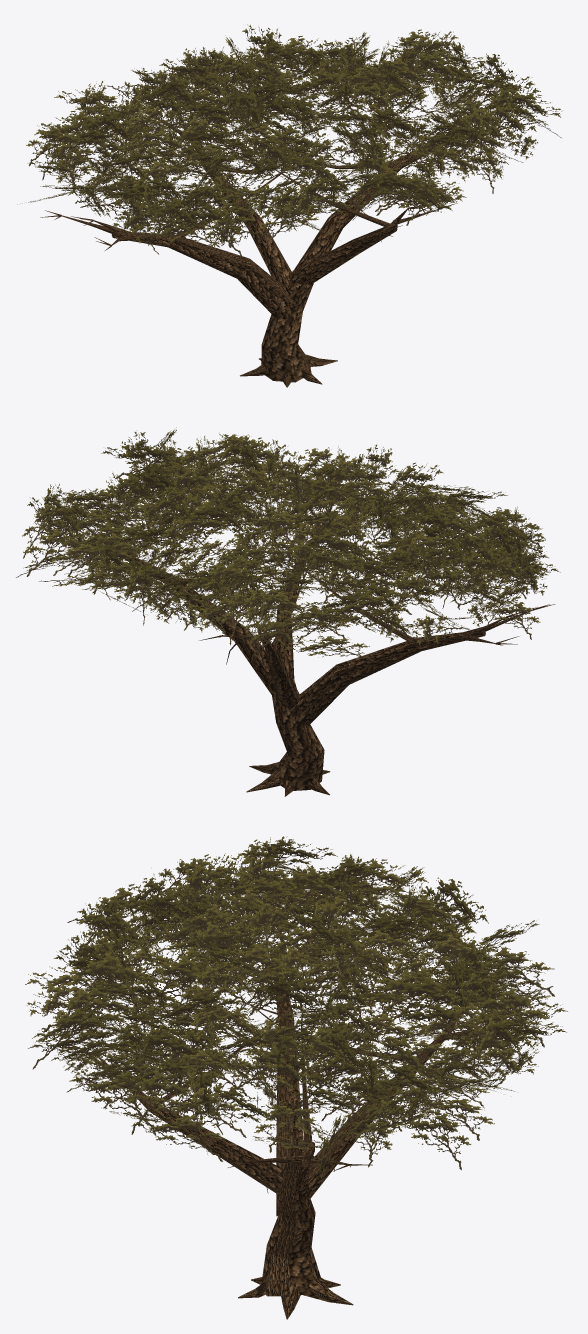
The model's file is Acacia_01_Copa_Ampla.glb.
3 views of the same model, one above another, from view 1: azimuth 30°, elevation 25°; view 2: azimuth 150°, elevation 25°; view 3: azimuth 270°, elevation 25° (orthographic). The views are drawn at different scales.
Parts seen in each view (by area): view 1: Folhagem fina, Ramos principais, Tronco e raizes, Ramos secundarios; view 2: Folhagem fina, Ramos principais, Tronco e raizes, Ramos secundarios; view 3: Folhagem fina, Ramos principais, Tronco e raizes, Ramos secundarios.
Boxes of the visible parts, left/top/right/bottom form: Folhagem fina: left=17, top=24, right=561, bottom=259; Ramos principais: left=111, top=133, right=463, bottom=319; Tronco e raizes: left=240, top=269, right=337, bottom=387; Ramos secundarios: left=61, top=95, right=510, bottom=245; Folhagem fina: left=16, top=427, right=560, bottom=662; Ramos principais: left=124, top=525, right=485, bottom=726; Tronco e raizes: left=246, top=678, right=330, bottom=796; Ramos secundarios: left=58, top=502, right=532, bottom=647; Folhagem fina: left=25, top=836, right=567, bottom=1180; Ramos principais: left=132, top=953, right=451, bottom=1216; Tronco e raizes: left=238, top=1192, right=353, bottom=1319; Ramos secundarios: left=81, top=928, right=477, bottom=1164.
Bounding box in the file's own units: 11.44 × 6.11 × 8.77.
Materials: 2 (2 with a texture image).
